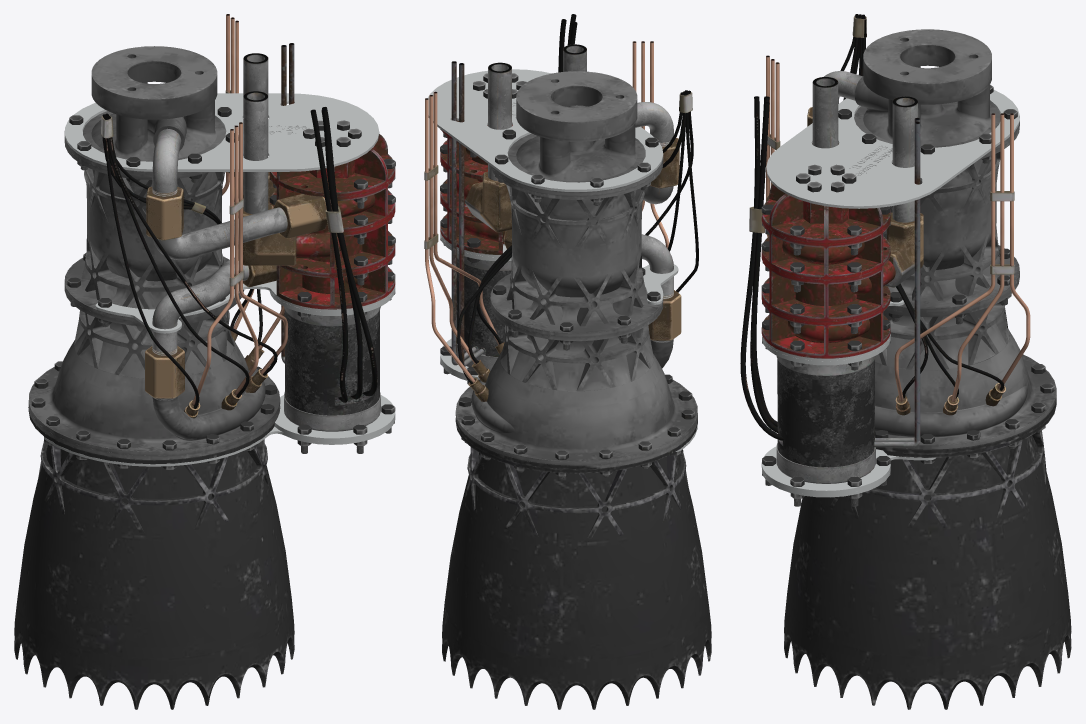
The model's file is rocket_engine.glb.
The picture shows the model from 3 angles, left to right: view 1: azimuth 30°, elevation 25°; view 2: azimuth 150°, elevation 25°; view 3: azimuth 270°, elevation 25°; orthographic projection. The views are drawn at different scales.
Parts seen in each view (by area): view 1: Moteur_Moteur_0, Pompe_Pompe_0, Tuyaux_Tuyaux_0, object 6, Plaques_Plaques_0, Vis_Vis_0; view 2: Moteur_Moteur_0, object 6, Tuyaux_Tuyaux_0, Pompe_Pompe_0, Plaques_Plaques_0, Vis_Vis_0; view 3: Moteur_Moteur_0, Pompe_Pompe_0, Plaques_Plaques_0, object 6, Vis_Vis_0, Tuyaux_Tuyaux_0.
Part boxes in pixels (x1,y1,x2,y2): Moteur_Moteur_0: (14,46,294,709); Pompe_Pompe_0: (269,43,395,431); Tuyaux_Tuyaux_0: (145,53,327,398); object 6: (101,14,377,418); Plaques_Plaques_0: (44,93,395,466); Vis_Vis_0: (31,107,395,469); Moteur_Moteur_0: (442,71,711,709); object 6: (424,14,698,401); Tuyaux_Tuyaux_0: (465,44,681,340); Pompe_Pompe_0: (440,61,512,370); Plaques_Plaques_0: (428,69,697,451); Vis_Vis_0: (440,73,694,478); Moteur_Moteur_0: (784,29,1071,709); Pompe_Pompe_0: (761,117,920,483); Plaques_Plaques_0: (761,90,1019,497); object 6: (740,14,1030,440); Vis_Vis_0: (761,84,1054,506); Tuyaux_Tuyaux_0: (766,71,923,287).
Bounding box in the file's own units: 10.55 × 19.26 × 9.69.
Materials: 6 (5 with a texture image).
